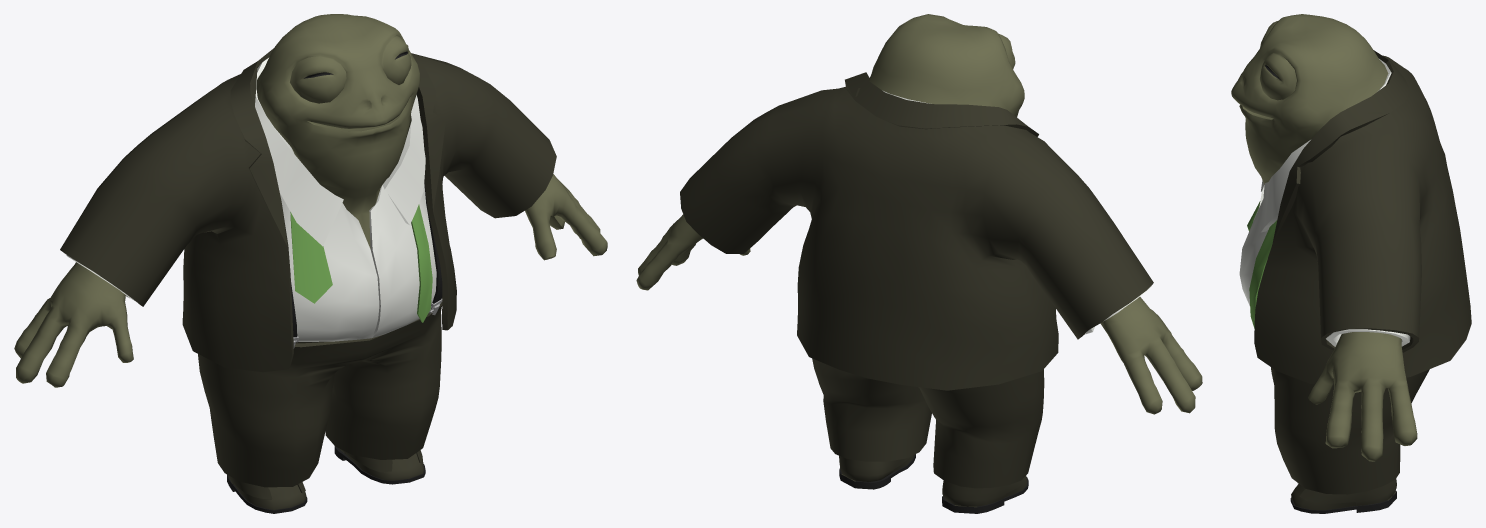
Rendered from toad.fbx.
3 renders of one model, left to right at view 1: azimuth 30°, elevation 25°; view 2: azimuth 150°, elevation 25°; view 3: azimuth 270°, elevation 25°, orthographic. The views are drawn at different scales.
Parts seen in each view (by area): view 1: body, jacket; view 2: jacket, body; view 3: jacket, body.
Boxes of the visible parts, box(x1,y1,x2,y2) form: body: box(14, 14, 607, 513); jacket: box(60, 48, 556, 372); jacket: box(680, 72, 1153, 390); body: box(636, 14, 1202, 513); jacket: box(1254, 50, 1471, 385); body: box(1231, 14, 1429, 513).
Size of the model in its own units: 361 by 274 by 134.
